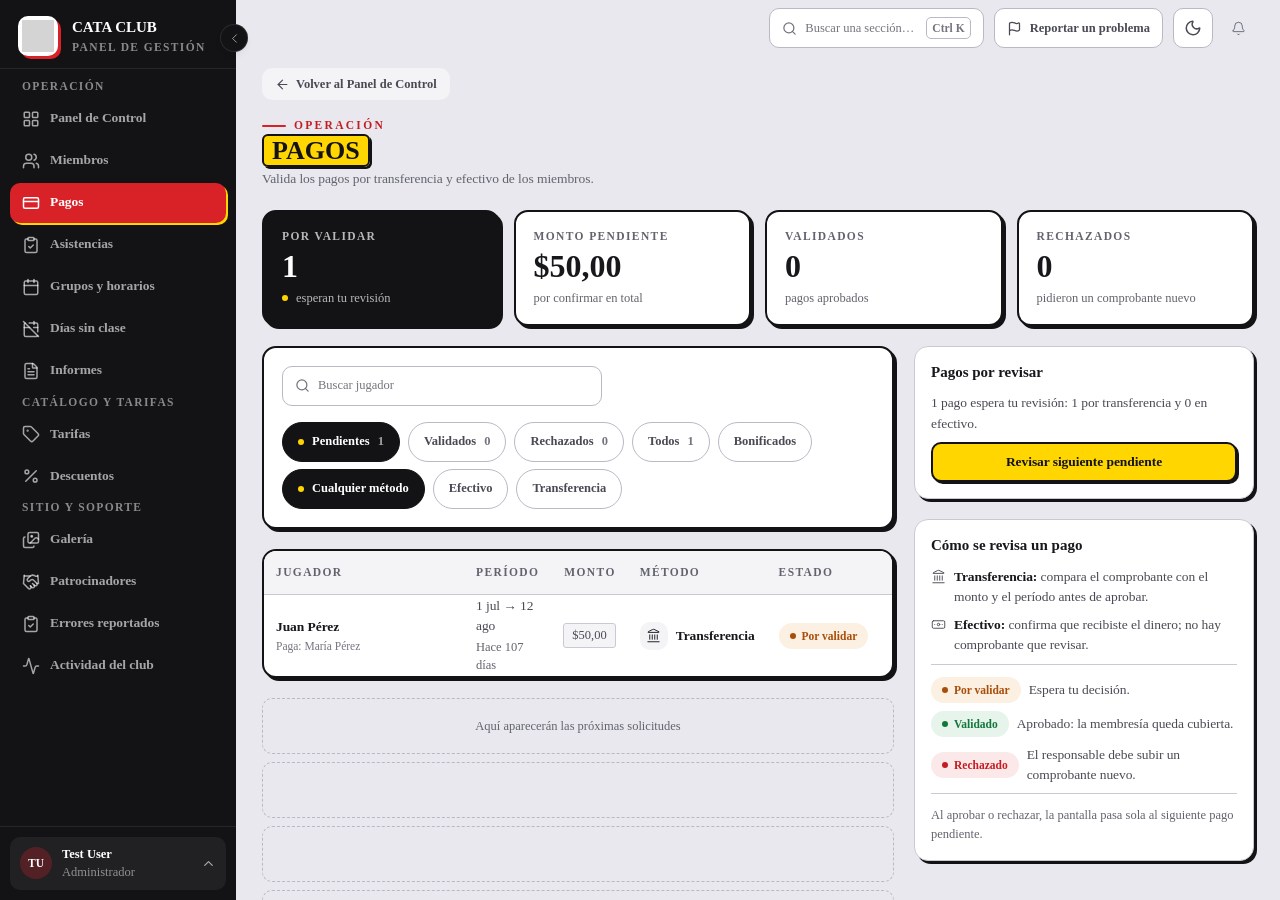
Test: PaymentsPage — age and method filter (ADMA-25) › tells the admin when no payment uses the chosen method
Expected: the element with test id "payments-table" is shown, [264,551,892,676]
What coordinates should you click on to do the following:
click the button "Efectivo"
I would click on:
 (471, 489)
Its box is [433,469,508,509].
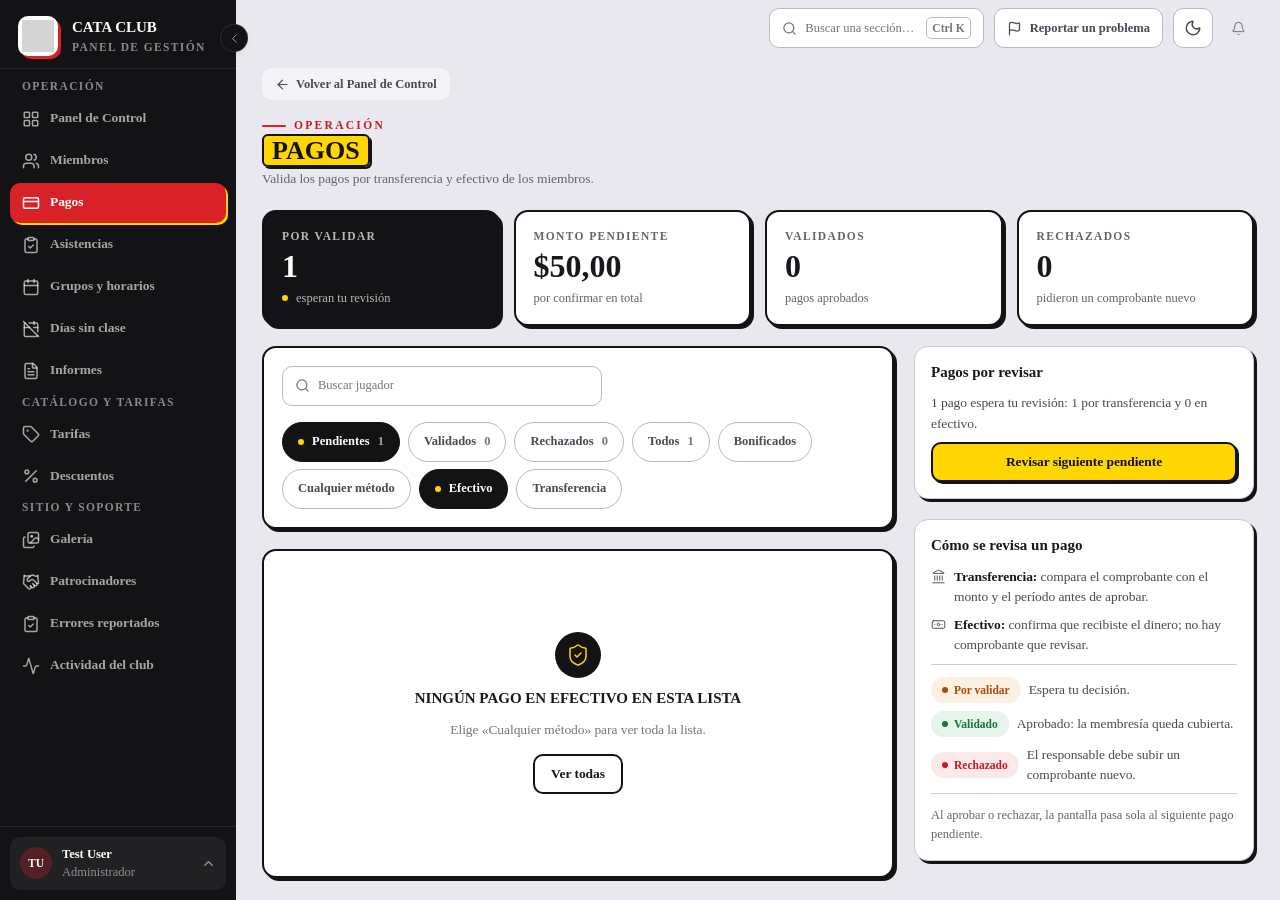
Expected: the text "Ningún pago en efectivo en esta lista" is shown, [415,688,741,710]
